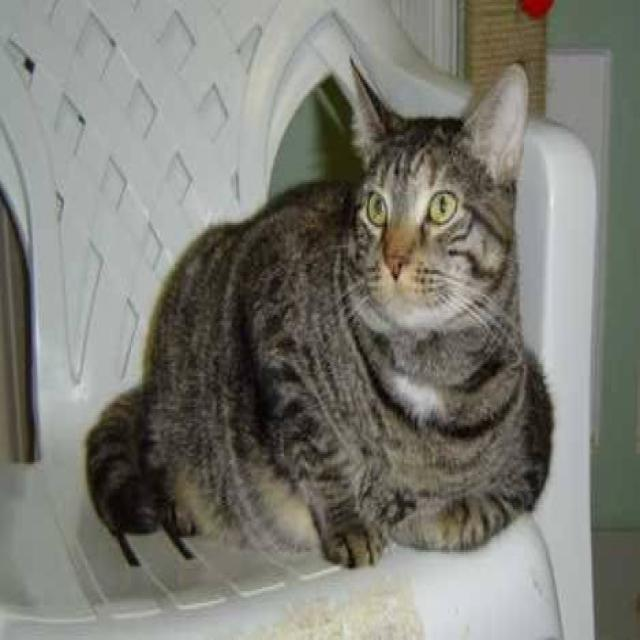cat: (83, 55, 554, 571)
